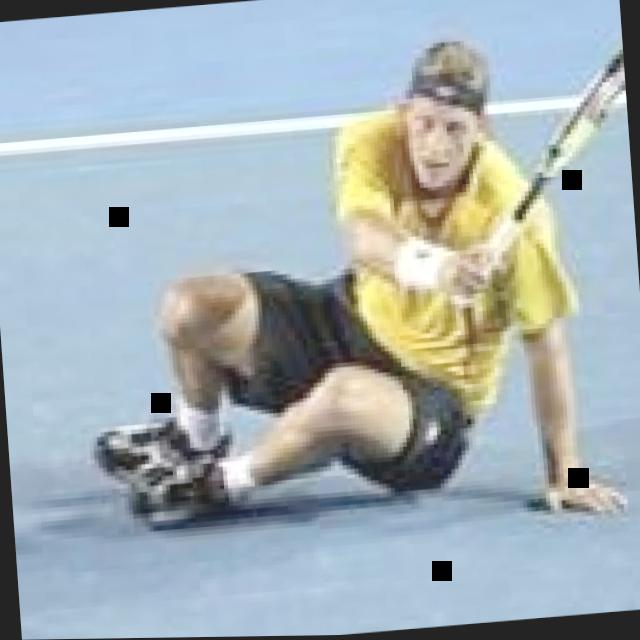Fall-Detected: (64, 0, 635, 548)
